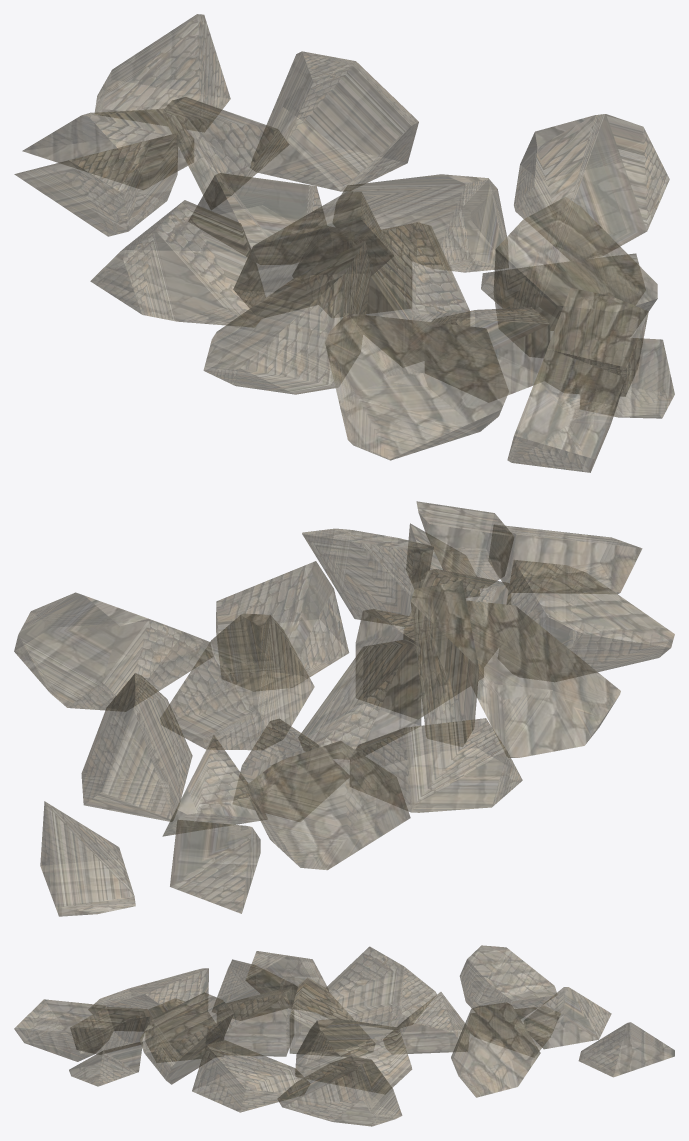
The model's file is BreakWallSmall_000019.obj.
3 renders of one model, top to bottom at view 1: azimuth 30°, elevation 25°; view 2: azimuth 150°, elevation 25°; view 3: azimuth 270°, elevation 25°, orthographic. The views are drawn at different scales.
Parts seen in each view (by area): view 1: Cube.002_cell.013_Cube.002_cell.012, Cube.002_cell.004_Cube.002_cell.003, Cube.002_cell.003_Cube.002_cell.002, Cube.002_cell.014_Cube.002_cell.013, Cube.002_cell.017_Cube.002_cell.016, Cube.002_cell.012_Cube.002_cell.011, Cube.002_cell.015_Cube.002_cell.014, Cube.002_cell.009_Cube.002_cell.008, Cube.002_cell.008_Cube.002_cell.007, Cube.002_cell.005_Cube.002_cell.004, Cube.002_cell.002_Cube.002_cell.001, Cube.002_cell.011_Cube.002_cell.010 (+8 smaller); view 2: Cube.002_cell.017_Cube.002_cell.016, Cube.002_cell.003_Cube.002_cell.002, Cube.002_cell.013_Cube.002_cell.012, Cube.002_cell.015_Cube.002_cell.014, Cube.002_cell.010_Cube.002_cell.009, Cube.002_cell.016_Cube.002_cell.015, Cube.002_cell.012_Cube.002_cell.011, Cube.002_cell.014_Cube.002_cell.013, Cube.002_cell.006_Cube.002_cell.005, Cube.002_cell.008_Cube.002_cell.007, Cube.002_cell.009_Cube.002_cell.008, Cube.002_cell.004_Cube.002_cell.003 (+8 smaller); view 3: Cube.002_cell.015_Cube.002_cell.014, Cube.002_cell.014_Cube.002_cell.013, Cube.002_cell.012_Cube.002_cell.011, Cube.002_cell.003_Cube.002_cell.002, Cube.002_cell.016_Cube.002_cell.015, Cube.002_cell.004_Cube.002_cell.003, Cube.002_cell.010_Cube.002_cell.009, Cube.002_cell.006_Cube.002_cell.005, Cube.002_cell.008_Cube.002_cell.007, Cube.002_cell.002_Cube.002_cell.001, Cube.002_cell.013_Cube.002_cell.012, Cube.002_cell.009_Cube.002_cell.008 (+8 smaller).
Boxes of the visible parts, left/top/right/bottom form: Cube.002_cell.013_Cube.002_cell.012: left=325, top=313, right=508, bottom=460; Cube.002_cell.004_Cube.002_cell.003: left=493, top=197, right=657, bottom=360; Cube.002_cell.003_Cube.002_cell.002: left=514, top=114, right=669, bottom=260; Cube.002_cell.014_Cube.002_cell.013: left=250, top=51, right=418, bottom=191; Cube.002_cell.017_Cube.002_cell.016: left=203, top=241, right=371, bottom=394; Cube.002_cell.012_Cube.002_cell.011: left=90, top=200, right=265, bottom=326; Cube.002_cell.015_Cube.002_cell.014: left=333, top=174, right=508, bottom=272; Cube.002_cell.009_Cube.002_cell.008: left=233, top=191, right=393, bottom=318; Cube.002_cell.008_Cube.002_cell.007: left=347, top=222, right=469, bottom=367; Cube.002_cell.005_Cube.002_cell.004: left=94, top=14, right=230, bottom=131; Cube.002_cell.002_Cube.002_cell.001: left=507, top=349, right=625, bottom=472; Cube.002_cell.011_Cube.002_cell.010: left=425, top=307, right=550, bottom=402; Cube.002_cell.017_Cube.002_cell.016: left=454, top=600, right=620, bottom=757; Cube.002_cell.003_Cube.002_cell.002: left=14, top=592, right=212, bottom=711; Cube.002_cell.013_Cube.002_cell.012: left=498, top=559, right=674, bottom=681; Cube.002_cell.015_Cube.002_cell.014: left=160, top=613, right=314, bottom=750; Cube.002_cell.010_Cube.002_cell.009: left=245, top=741, right=410, bottom=869; Cube.002_cell.016_Cube.002_cell.015: left=216, top=561, right=348, bottom=690; Cube.002_cell.012_Cube.002_cell.011: left=350, top=718, right=522, bottom=812; Cube.002_cell.014_Cube.002_cell.013: left=81, top=673, right=192, bottom=821; Cube.002_cell.006_Cube.002_cell.005: left=298, top=639, right=421, bottom=759; Cube.002_cell.008_Cube.002_cell.007: left=355, top=609, right=483, bottom=718; Cube.002_cell.009_Cube.002_cell.008: left=410, top=581, right=478, bottom=746; Cube.002_cell.004_Cube.002_cell.003: left=302, top=528, right=433, bottom=626; Cube.002_cell.015_Cube.002_cell.014: left=295, top=1018, right=411, bottom=1093; Cube.002_cell.014_Cube.002_cell.013: left=451, top=1002, right=540, bottom=1097; Cube.002_cell.012_Cube.002_cell.011: left=320, top=946, right=436, bottom=1029; Cube.002_cell.003_Cube.002_cell.002: left=277, top=1056, right=402, bottom=1126; Cube.002_cell.016_Cube.002_cell.015: left=192, top=1040, right=309, bottom=1112; Cube.002_cell.004_Cube.002_cell.003: left=139, top=992, right=233, bottom=1084; Cube.002_cell.010_Cube.002_cell.009: left=460, top=945, right=556, bottom=1018; Cube.002_cell.006_Cube.002_cell.005: left=289, top=977, right=374, bottom=1056; Cube.002_cell.008_Cube.002_cell.007: left=217, top=985, right=294, bottom=1056; Cube.002_cell.002_Cube.002_cell.001: left=14, top=999, right=114, bottom=1061; Cube.002_cell.013_Cube.002_cell.012: left=88, top=968, right=208, bottom=1030; Cube.002_cell.009_Cube.002_cell.008: left=245, top=951, right=332, bottom=1014.
Bounding box in the file's own units: 29.18 × 6.91 × 50.79.
2 materials, 2 textured.
